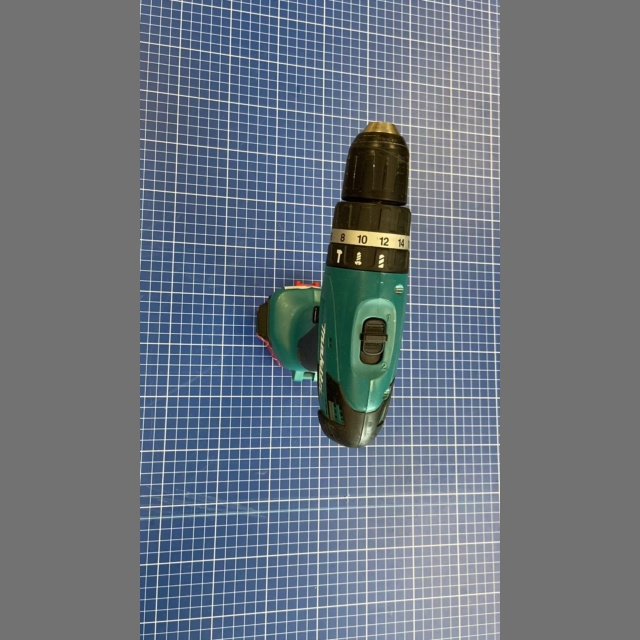drill: (248, 114, 416, 453)
